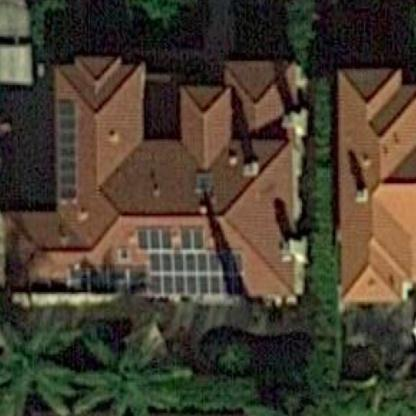solar_panel: (129, 224, 256, 303)
swimming_pool: (58, 90, 88, 213)
